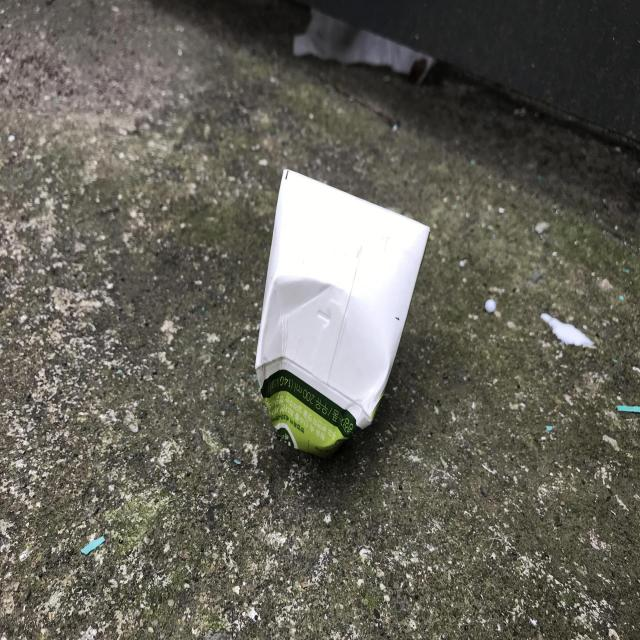paperpack: (255, 169, 430, 457)
